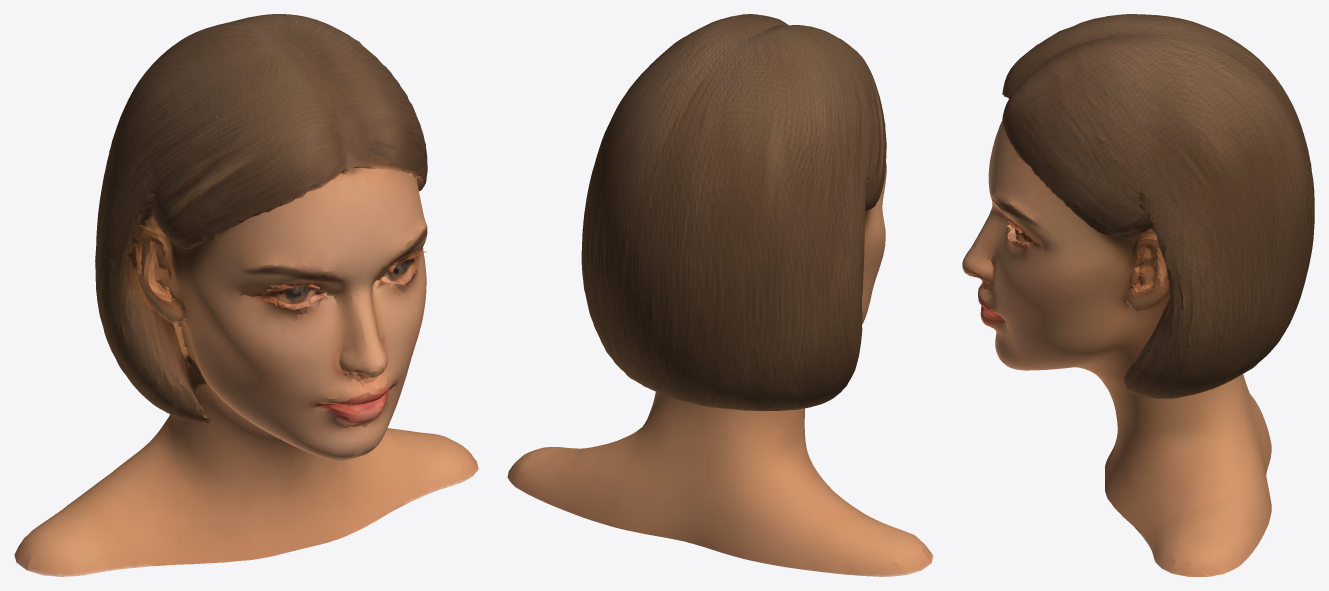
Rendered from face-skull.glb.
The picture shows the model from 3 angles, left to right: view 1: azimuth 30°, elevation 25°; view 2: azimuth 150°, elevation 25°; view 3: azimuth 270°, elevation 25°; orthographic projection. The views are drawn at different scales.
Visible parts, largest first — view 1: Face_Neck; view 2: Face_Neck; view 3: Face_Neck.
Part boxes in pixels (x1,y1,x2,y2): Face_Neck: [14, 14, 478, 576]; Face_Neck: [507, 14, 933, 576]; Face_Neck: [962, 14, 1314, 576].
Size of the model in its own units: 1.79 by 1.9 by 1.35.
2 materials, 1 textured.
